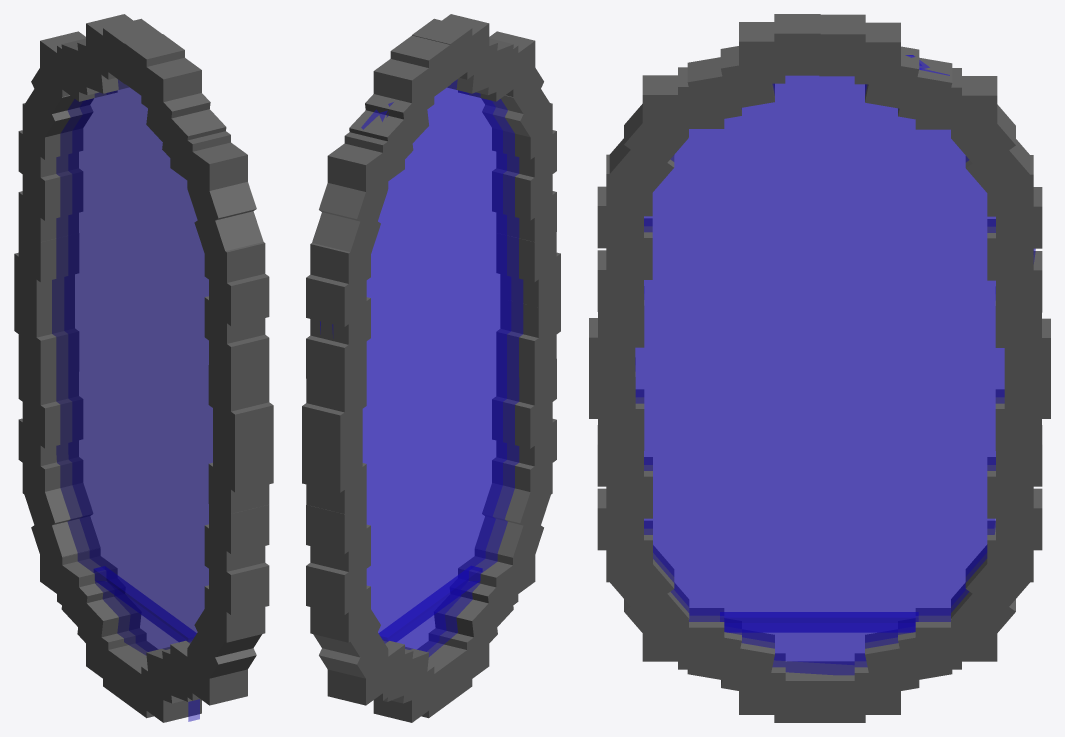
Rendered from Portal B 1.fbx.
The picture shows the model from 3 angles, left to right: view 1: azimuth 30°, elevation 25°; view 2: azimuth 150°, elevation 25°; view 3: azimuth 270°, elevation 25°; orthographic projection. The views are drawn at different scales.
Parts seen in each view (by area): view 1: Cube.002, Cube; view 2: Cube.002, Cube; view 3: Cube, Cube.002.
Boxes of the visible parts, left/top/right/bottom form: Cube.002: left=14, top=14, right=273, bottom=722; Cube: left=52, top=79, right=212, bottom=721; Cube.002: left=302, top=14, right=560, bottom=722; Cube: left=320, top=79, right=523, bottom=656; Cube: left=635, top=55, right=1035, bottom=675; Cube.002: left=589, top=14, right=1050, bottom=722.
Bounding box in the file's own units: 200 × 3278 × 1990.
